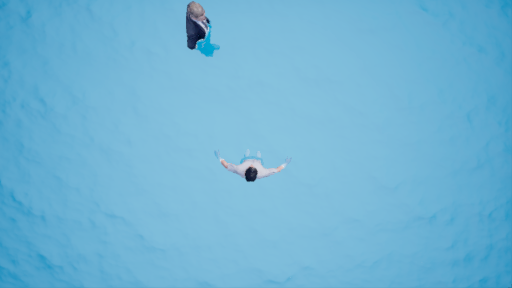person: (211, 141, 298, 184), (172, 3, 230, 53)
